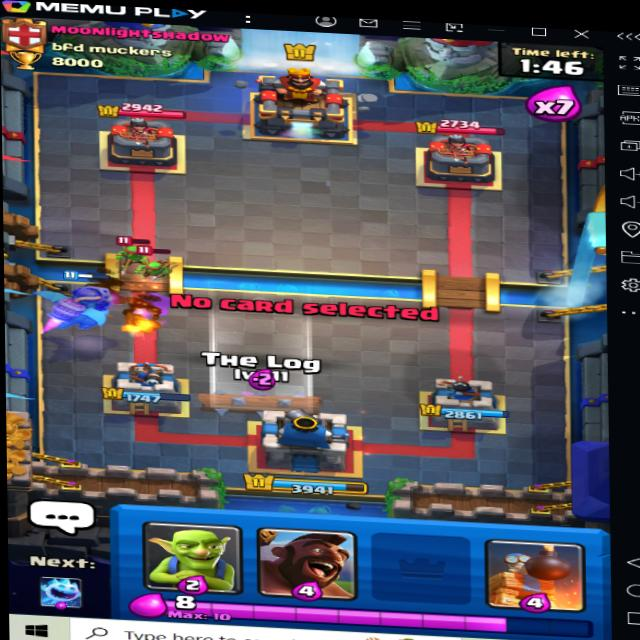monk-ability: (113, 298, 174, 341)
spear-goblin: (136, 254, 176, 281), (116, 244, 157, 270)
